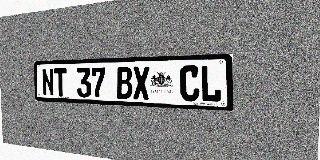3: (77, 68, 91, 98)
7: (91, 67, 106, 98)
B: (116, 67, 133, 99)
C: (180, 65, 200, 102)
L: (200, 65, 222, 103)
N: (42, 68, 54, 96)
T: (54, 68, 67, 97)
X: (133, 66, 150, 100)
